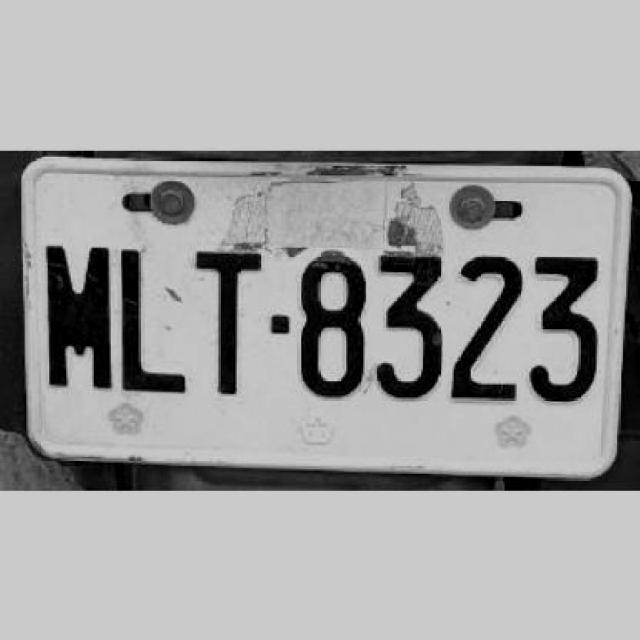-: (268, 314, 292, 334)
2: (451, 255, 522, 403)
3: (529, 252, 600, 403), (377, 254, 443, 400)
8: (298, 248, 368, 400)
L: (120, 248, 185, 392)
M: (44, 243, 114, 389)
T: (196, 248, 262, 395)
